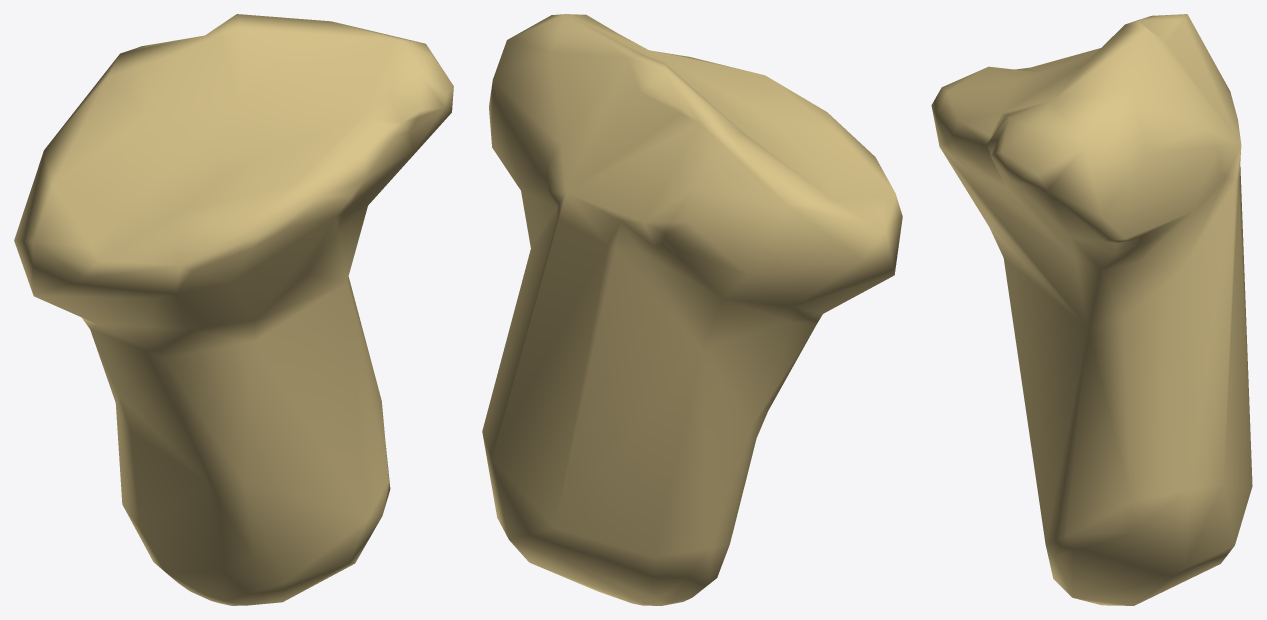
The picture shows the model from 3 angles, left to right: view 1: azimuth 30°, elevation 25°; view 2: azimuth 150°, elevation 25°; view 3: azimuth 270°, elevation 25°; orthographic projection. The views are drawn at different scales.
Visible parts, largest first — view 1: 左侧第三趾远节趾骨; view 2: 左侧第三趾远节趾骨; view 3: 左侧第三趾远节趾骨.
Boxes of the visible parts, bbox=[...] form: 左侧第三趾远节趾骨: bbox=[14, 14, 453, 605]; 左侧第三趾远节趾骨: bbox=[482, 14, 902, 605]; 左侧第三趾远节趾骨: bbox=[931, 14, 1252, 605].
Size of the model in its own units: 0.013 by 0.0177 by 0.00908.
